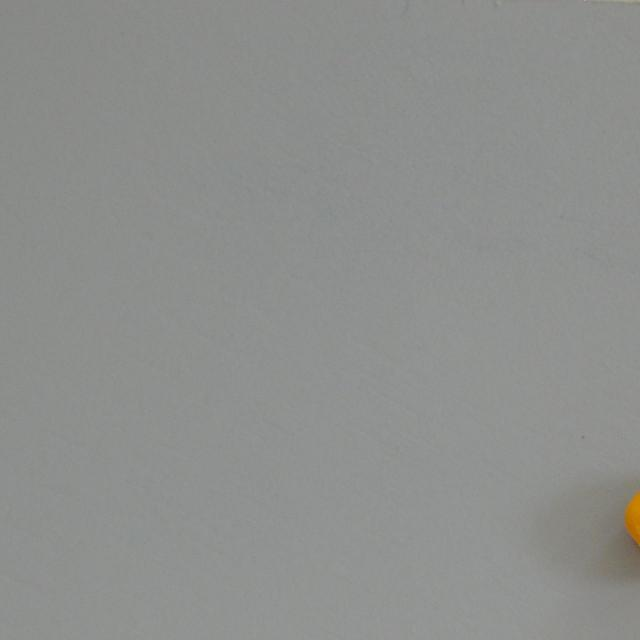dañado: (620, 461, 640, 581)
